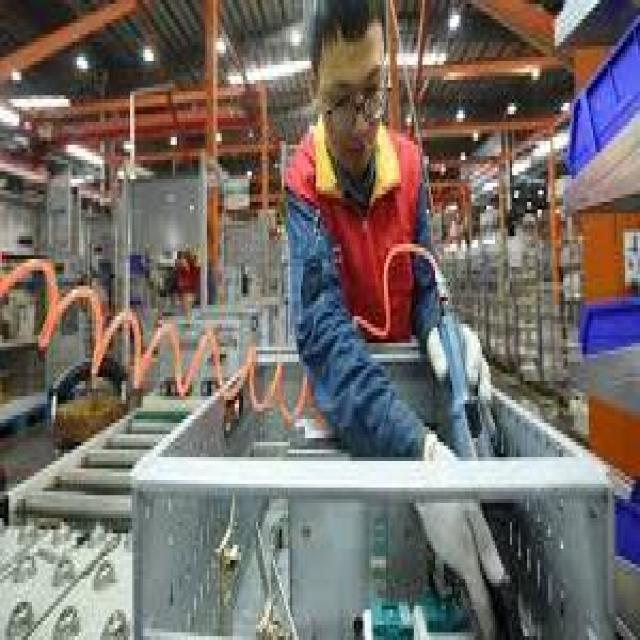Reflective-Jacket: (278, 111, 440, 377)
